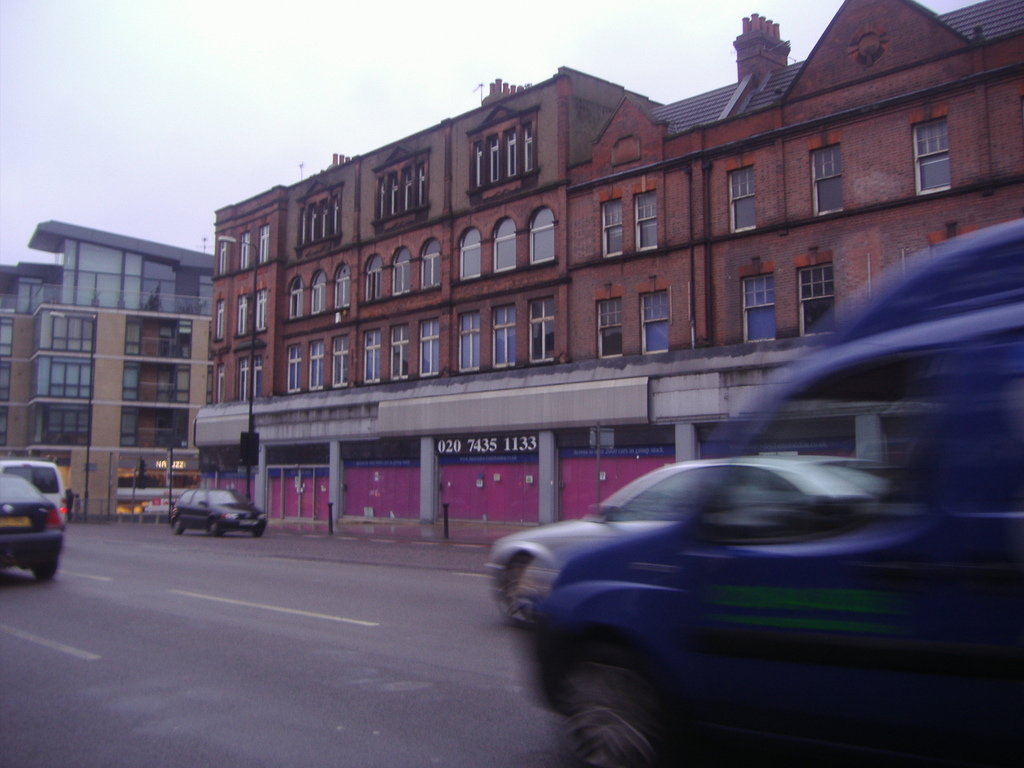Car: (485, 460, 906, 631), (0, 473, 62, 583), (0, 460, 67, 534), (171, 487, 266, 539)
